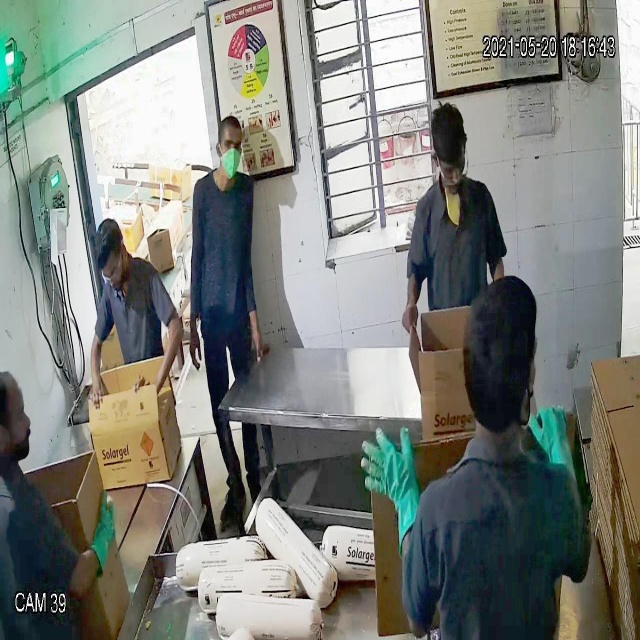Gafas: (429, 142, 468, 187)
Sin_gafas: (212, 132, 243, 159)
